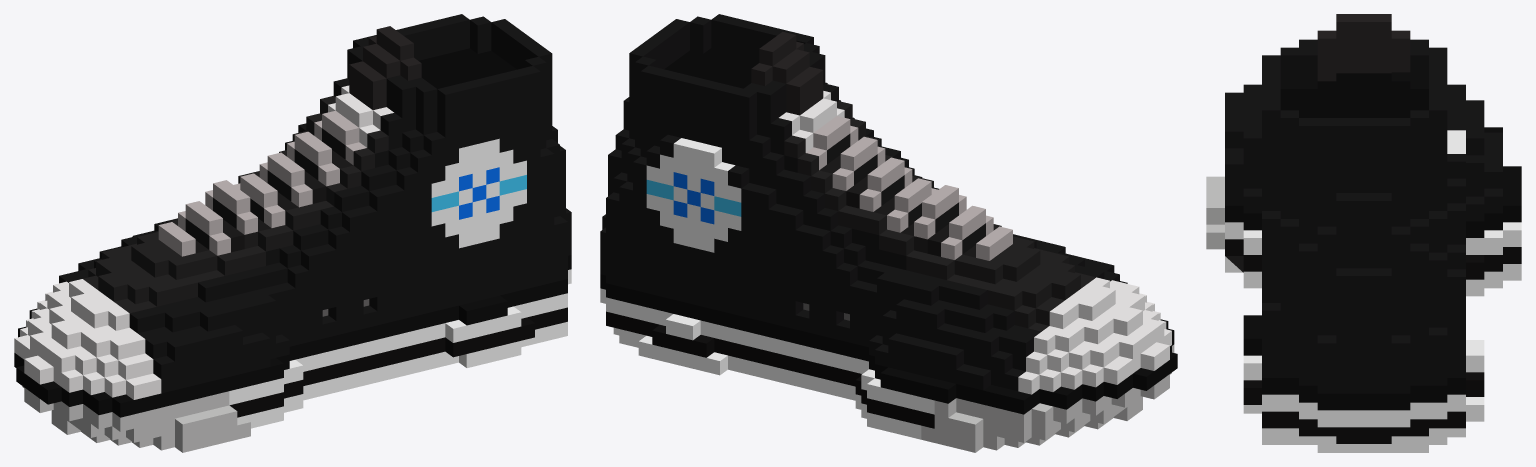
Rendered from Classic.fbx.
3 views of the same model, side by side, from view 1: azimuth 30°, elevation 25°; view 2: azimuth 150°, elevation 25°; view 3: azimuth 270°, elevation 25° (orthographic). The views are drawn at different scales.
Visible parts, largest first — view 1: Untitled; view 2: Untitled; view 3: Untitled.
Boxes of the visible parts, x1,y1,x2,y2 form: Untitled: [14, 14, 571, 452]; Untitled: [600, 14, 1177, 452]; Untitled: [1206, 14, 1521, 452].
Size of the model in its own units: 390 by 210 by 170.
